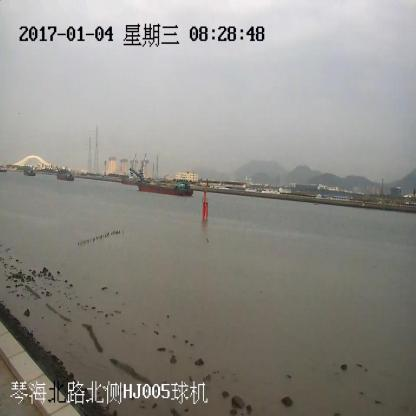Bulk Carrier: (130, 168, 192, 196)
